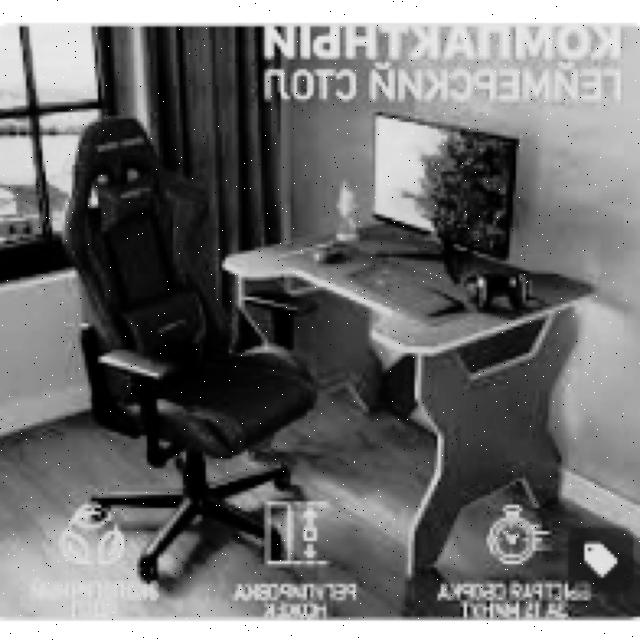book: (65, 112, 317, 581)
table: (222, 218, 598, 577)
